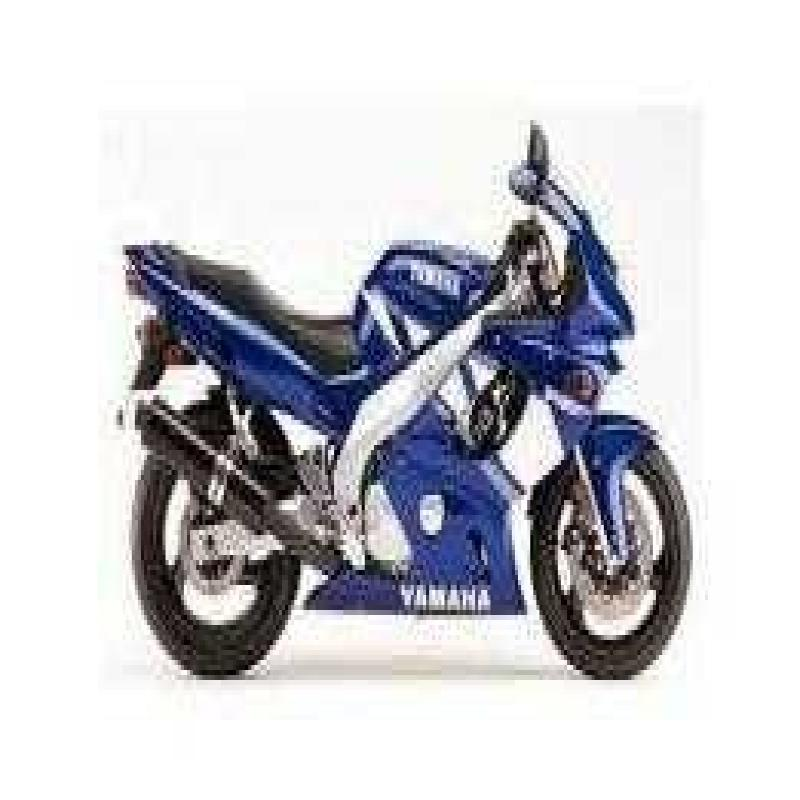bike: (100, 112, 708, 691)
